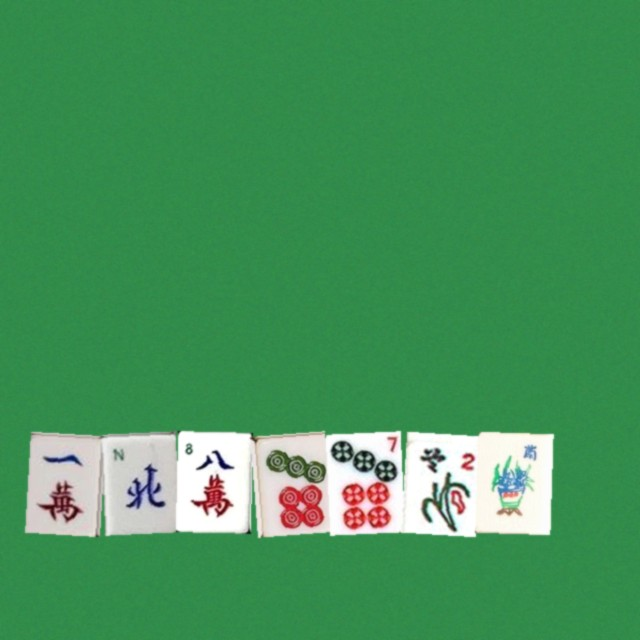tile: (25, 431, 100, 532), (100, 431, 175, 532), (175, 431, 250, 532), (250, 431, 325, 532), (325, 431, 400, 532), (400, 431, 475, 532), (475, 431, 550, 532)
